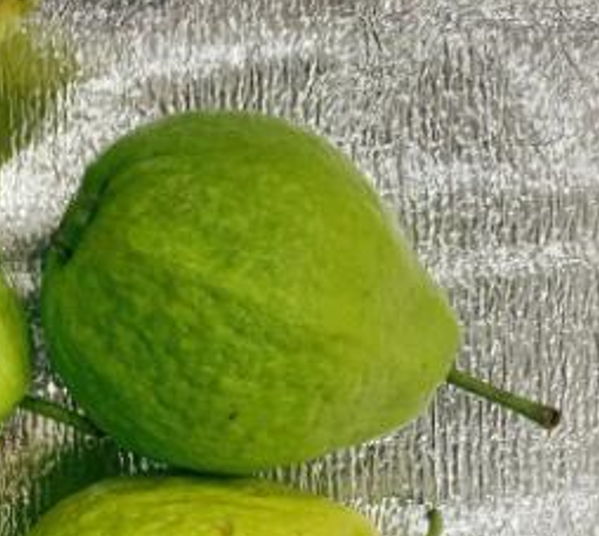guava_A: (41, 110, 463, 477)
